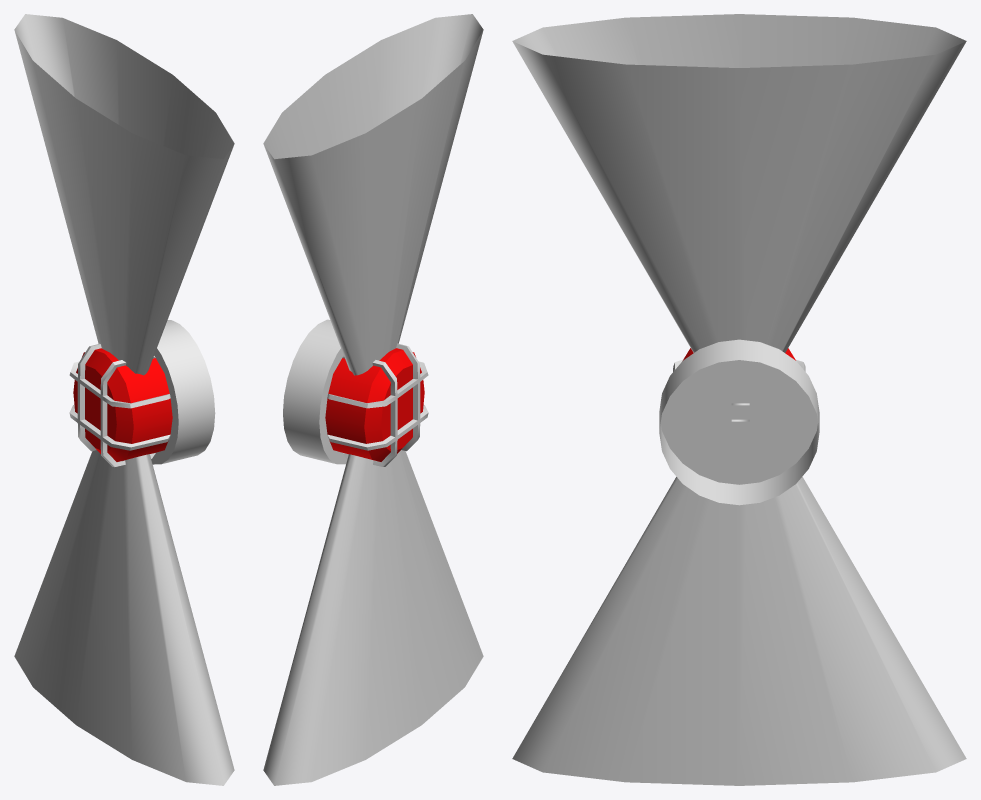
The model's file is alarm_light.fbx.
3 renders of one model, left to right at view 1: azimuth 30°, elevation 25°; view 2: azimuth 150°, elevation 25°; view 3: azimuth 270°, elevation 25°, orthographic. The views are drawn at different scales.
Visible parts, largest first — view 1: light_cone, cover, Base, grate; view 2: light_cone, cover, Base, grate; view 3: light_cone, Base.
Boxes of the visible parts, bbox=[...] form: light_cone: bbox=[14, 14, 234, 785]; cover: bbox=[73, 348, 172, 461]; Base: bbox=[151, 320, 215, 464]; grate: bbox=[69, 343, 170, 467]; light_cone: bbox=[263, 14, 483, 785]; cover: bbox=[325, 348, 424, 461]; Base: bbox=[283, 319, 347, 464]; grate: bbox=[327, 343, 428, 466]; light_cone: bbox=[512, 14, 966, 785]; Base: bbox=[659, 339, 819, 505].
Bounding box in the file's own units: 13.85 × 79.63 × 45.7.
